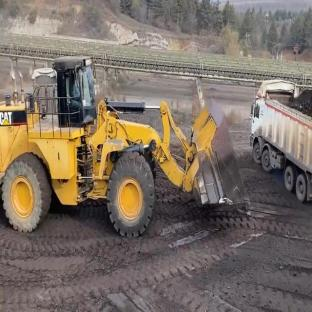Vehicle: (247, 74, 312, 199)
